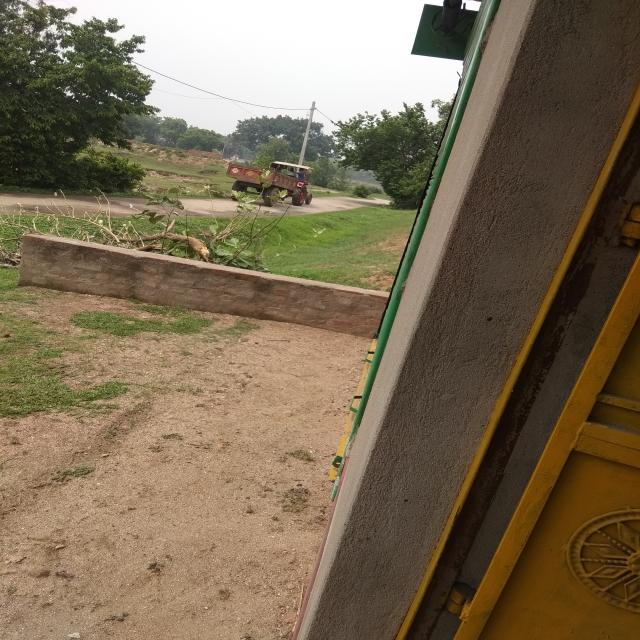tractor: (222, 156, 321, 221)
